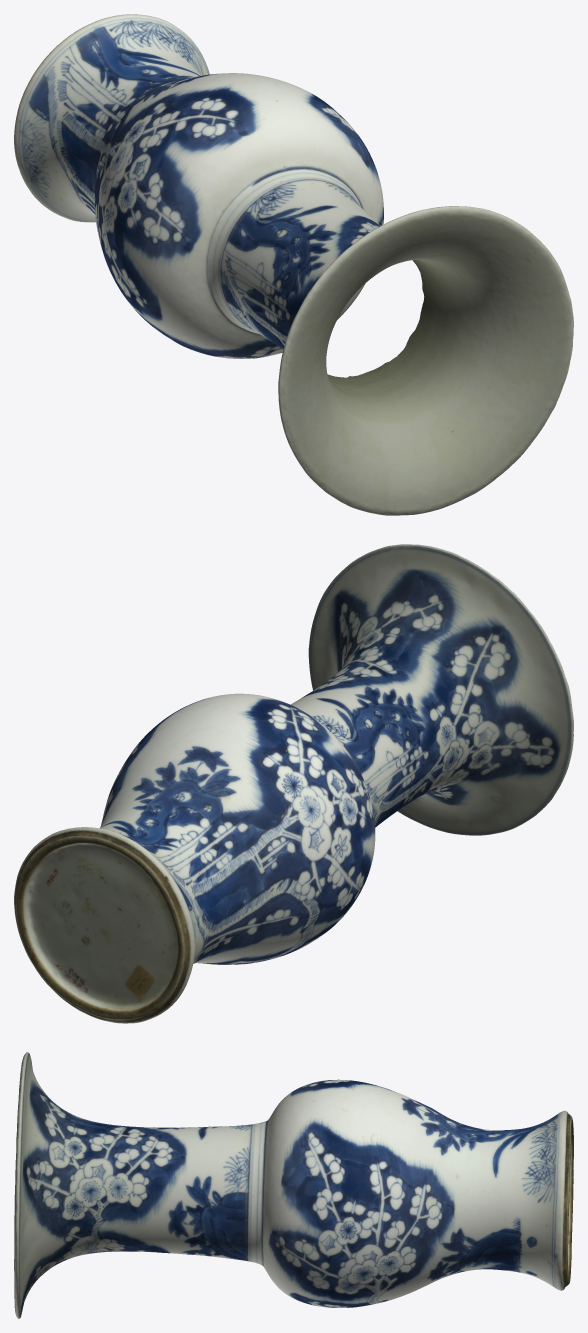
File: f1986_19-mesh-smooth-textured-200k-4096-web.glb
3 views of the same model, one above another, from view 1: azimuth 30°, elevation 25°; view 2: azimuth 150°, elevation 25°; view 3: azimuth 270°, elevation 25° (orthographic). The views are drawn at different scales.
Size of the model in its own units: 0.2218 by 0.2215 by 0.4641.
1 material, 1 textured.
